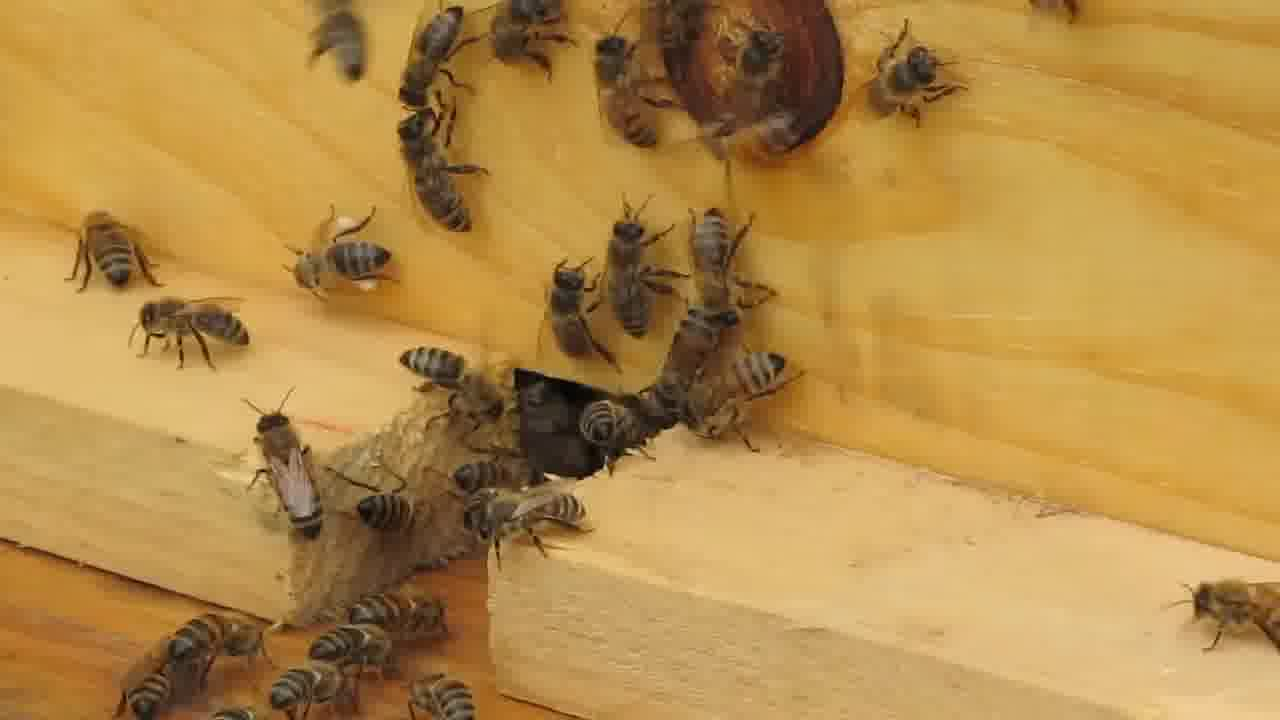pollen: (285, 208, 394, 299)
